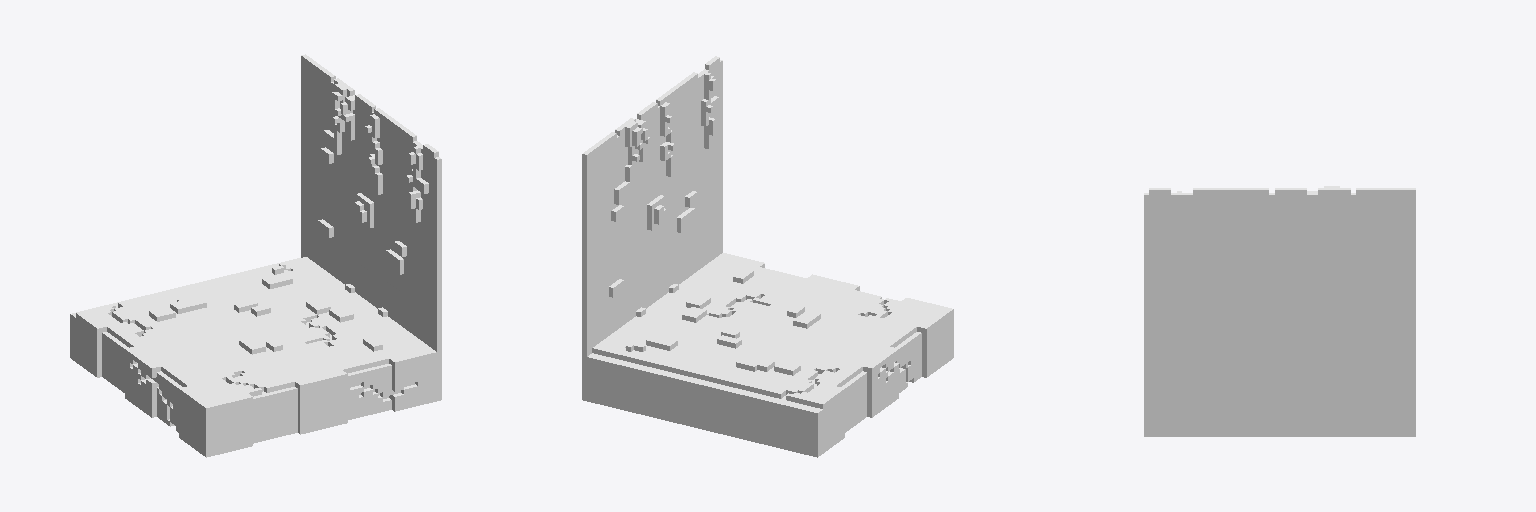
File: CorridorWithoutWindow.obj
The picture shows the model from 3 angles: view 1: azimuth 30°, elevation 25°; view 2: azimuth 150°, elevation 25°; view 3: azimuth 270°, elevation 25°; orthographic projection.
Visible parts, largest first — view 1: ThirstyCorridor; view 2: ThirstyCorridor; view 3: ThirstyCorridor.
Boxes of the visible parts, box(x1,y1,x2,y2) form: ThirstyCorridor: box(70, 54, 441, 457); ThirstyCorridor: box(582, 56, 953, 457); ThirstyCorridor: box(1144, 186, 1415, 436).
Size of the model in its own units: 5 by 5 by 5.